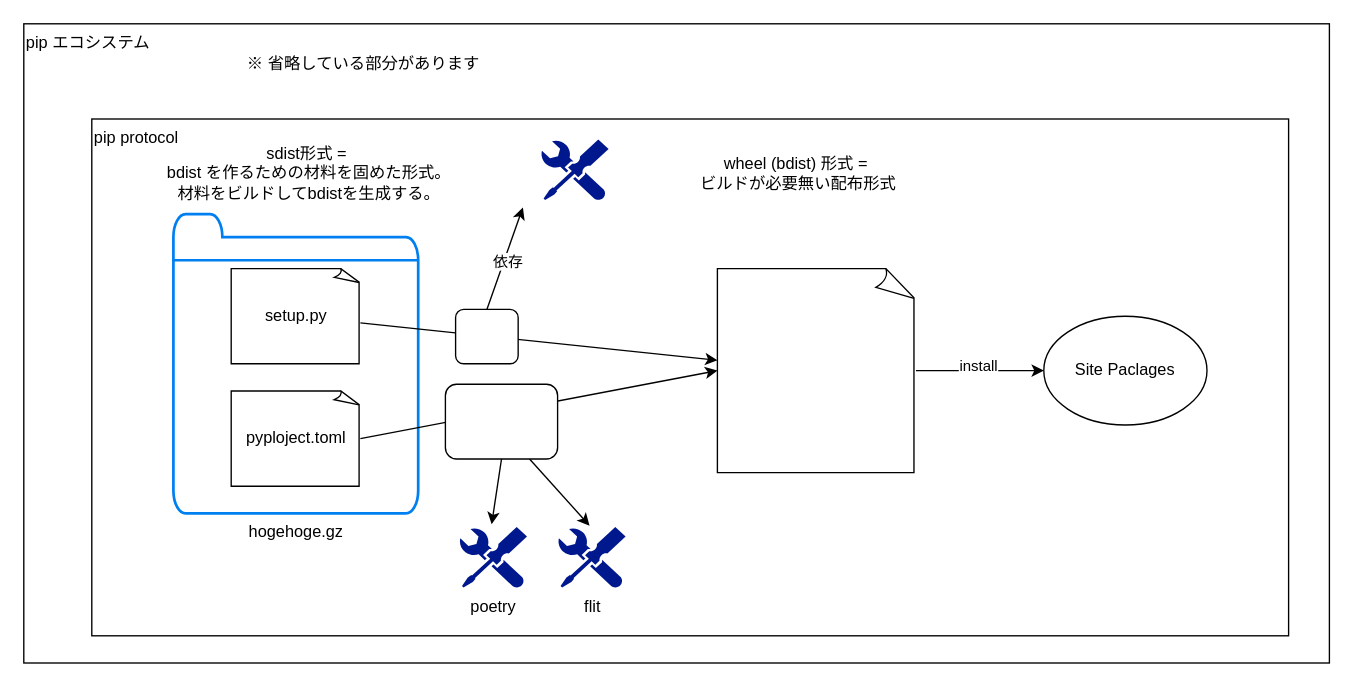
Image size: 1353x687. Some labels were removed from this diagram. Each missing label, with the centre of its shape:
.whl: (x=816, y=370)
build: (x=486, y=336)
pep 517,518 のプロコトルでbuild: (x=501, y=421)
setuptools: (x=574, y=169)
